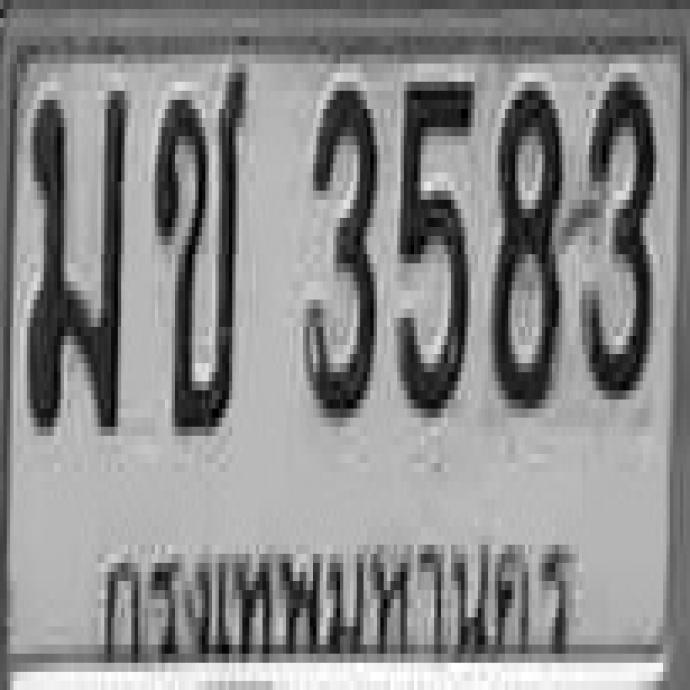3: (301, 76, 375, 412), (577, 71, 651, 392)
5: (394, 71, 470, 411)
8: (488, 76, 559, 402)
A10: (151, 56, 245, 426)
A33: (23, 83, 122, 430)
BKK: (88, 513, 585, 680)
